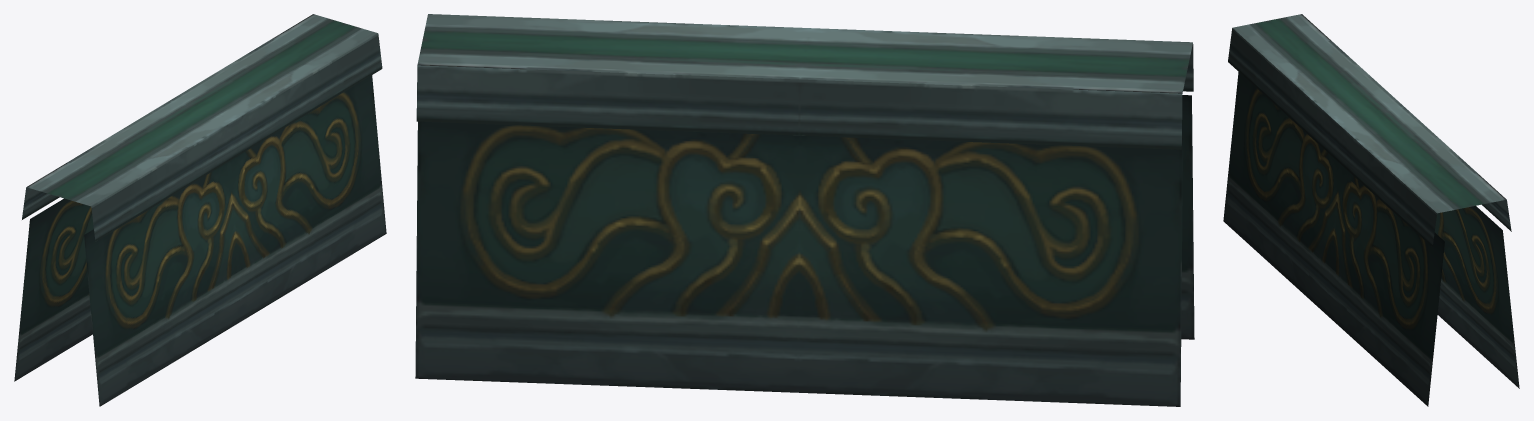
File: fb_plxd_zj_15_c.FBX
3 renders of one model, left to right at view 1: azimuth 30°, elevation 25°; view 2: azimuth 150°, elevation 25°; view 3: azimuth 270°, elevation 25°, orthographic. The views are drawn at different scales.
Parts seen in each view (by area): view 1: fb_plxd_zj_15_c; view 2: fb_plxd_zj_15_c; view 3: fb_plxd_zj_15_c.
Part boxes in pixels (x1=…): fb_plxd_zj_15_c: x1=14, y1=14, x2=386, y2=406; fb_plxd_zj_15_c: x1=415, y1=14, x2=1194, y2=406; fb_plxd_zj_15_c: x1=1223, y1=14, x2=1519, y2=406.
Bounding box in the file's own units: 328 × 144 × 202.
